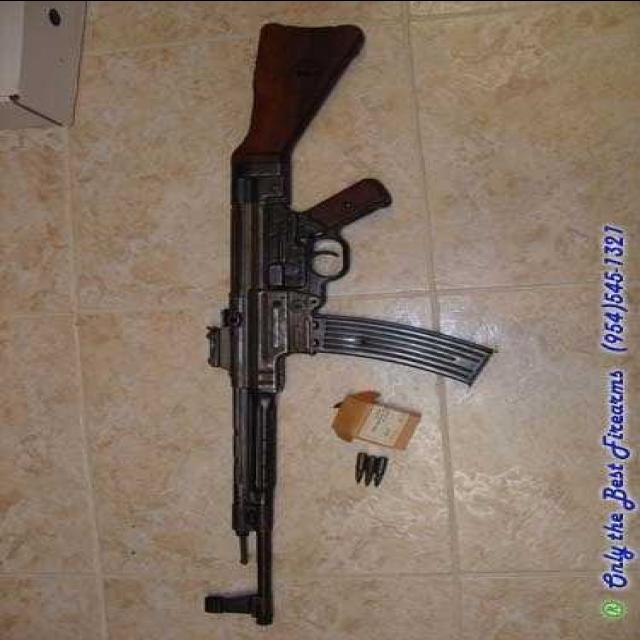heavyweapon: (191, 1, 517, 632)
